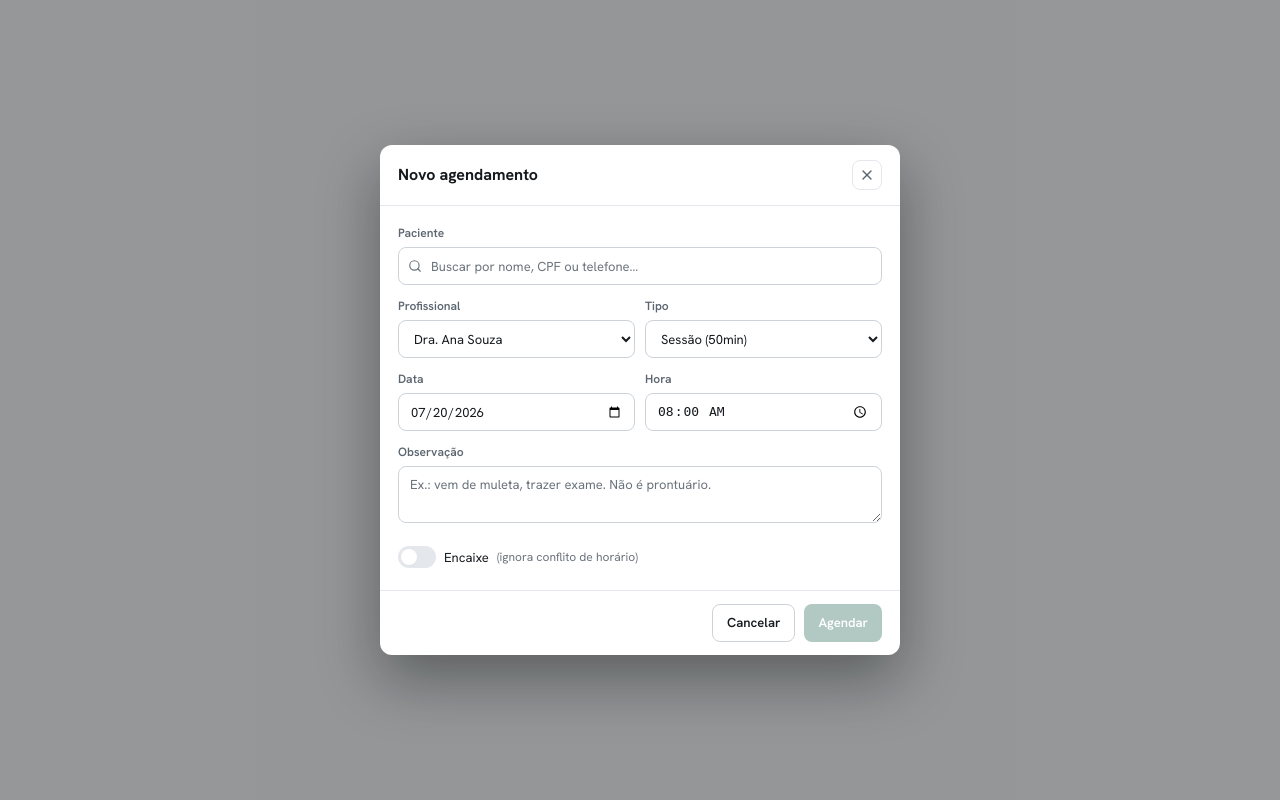
Test: NewAppointmentModal › tipo de grupo troca o título e mostra a capacidade
Select "Pilates (50min) · grupo" in the dropdown labelled "Tipo" at (764, 339), box [645,320,882,358]
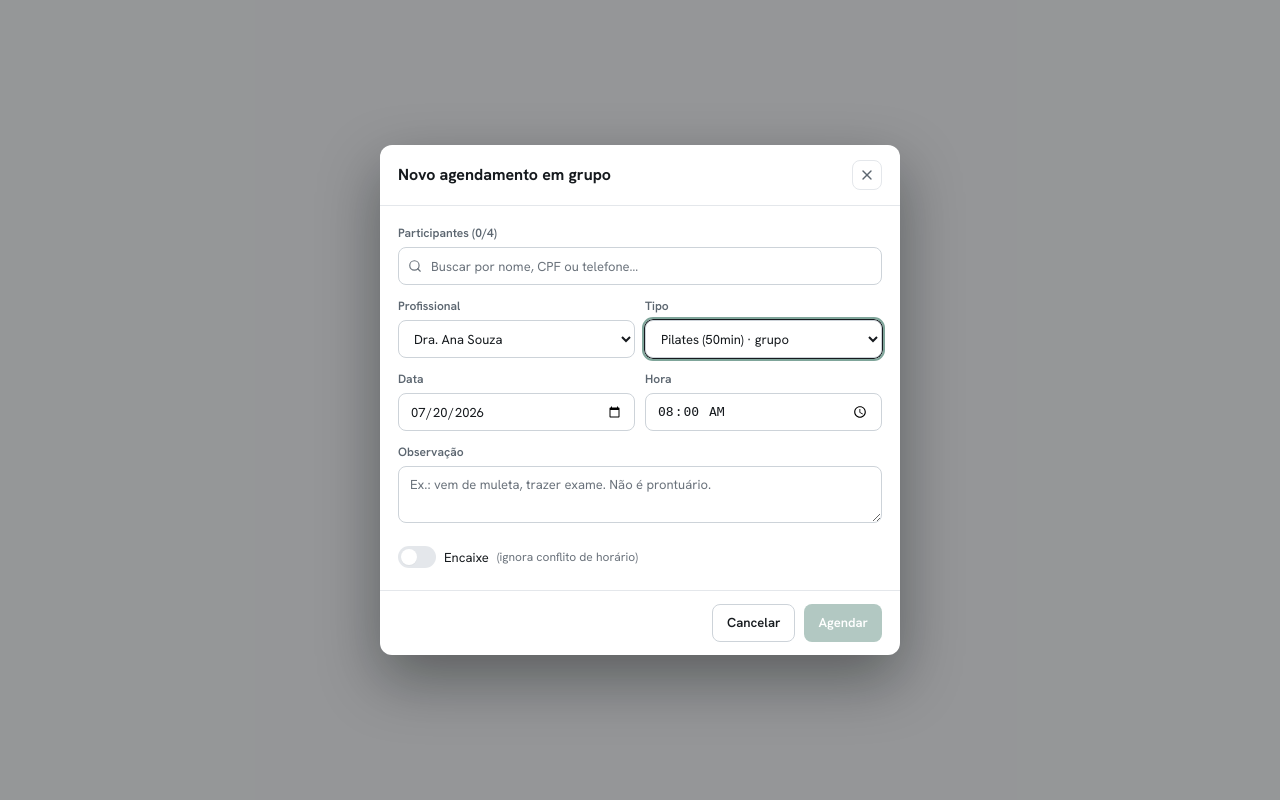
Expected: the dialog "Novo agendamento em grupo" is shown, [380,145,900,655]
Expected: the text "Participantes (0/4)" is shown, [398,225,497,241]
